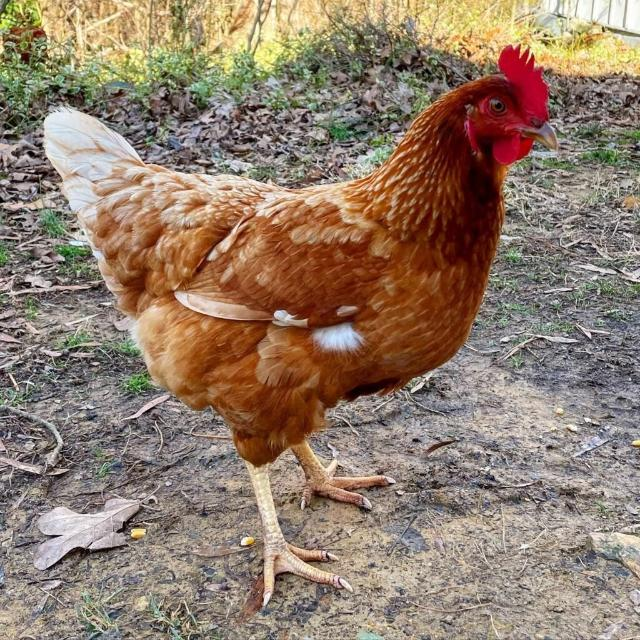Chicken: (45, 43, 560, 610)
